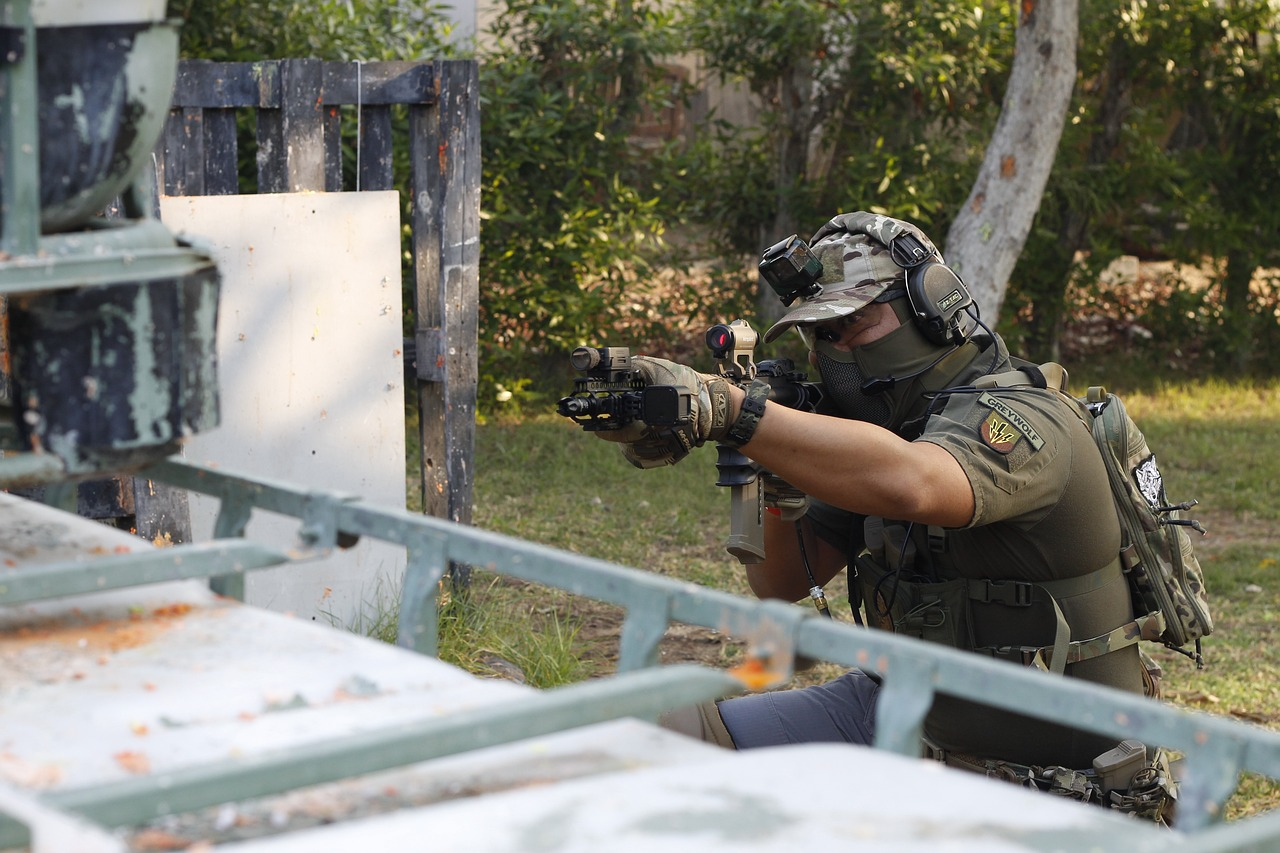gun: (552, 312, 841, 568)
